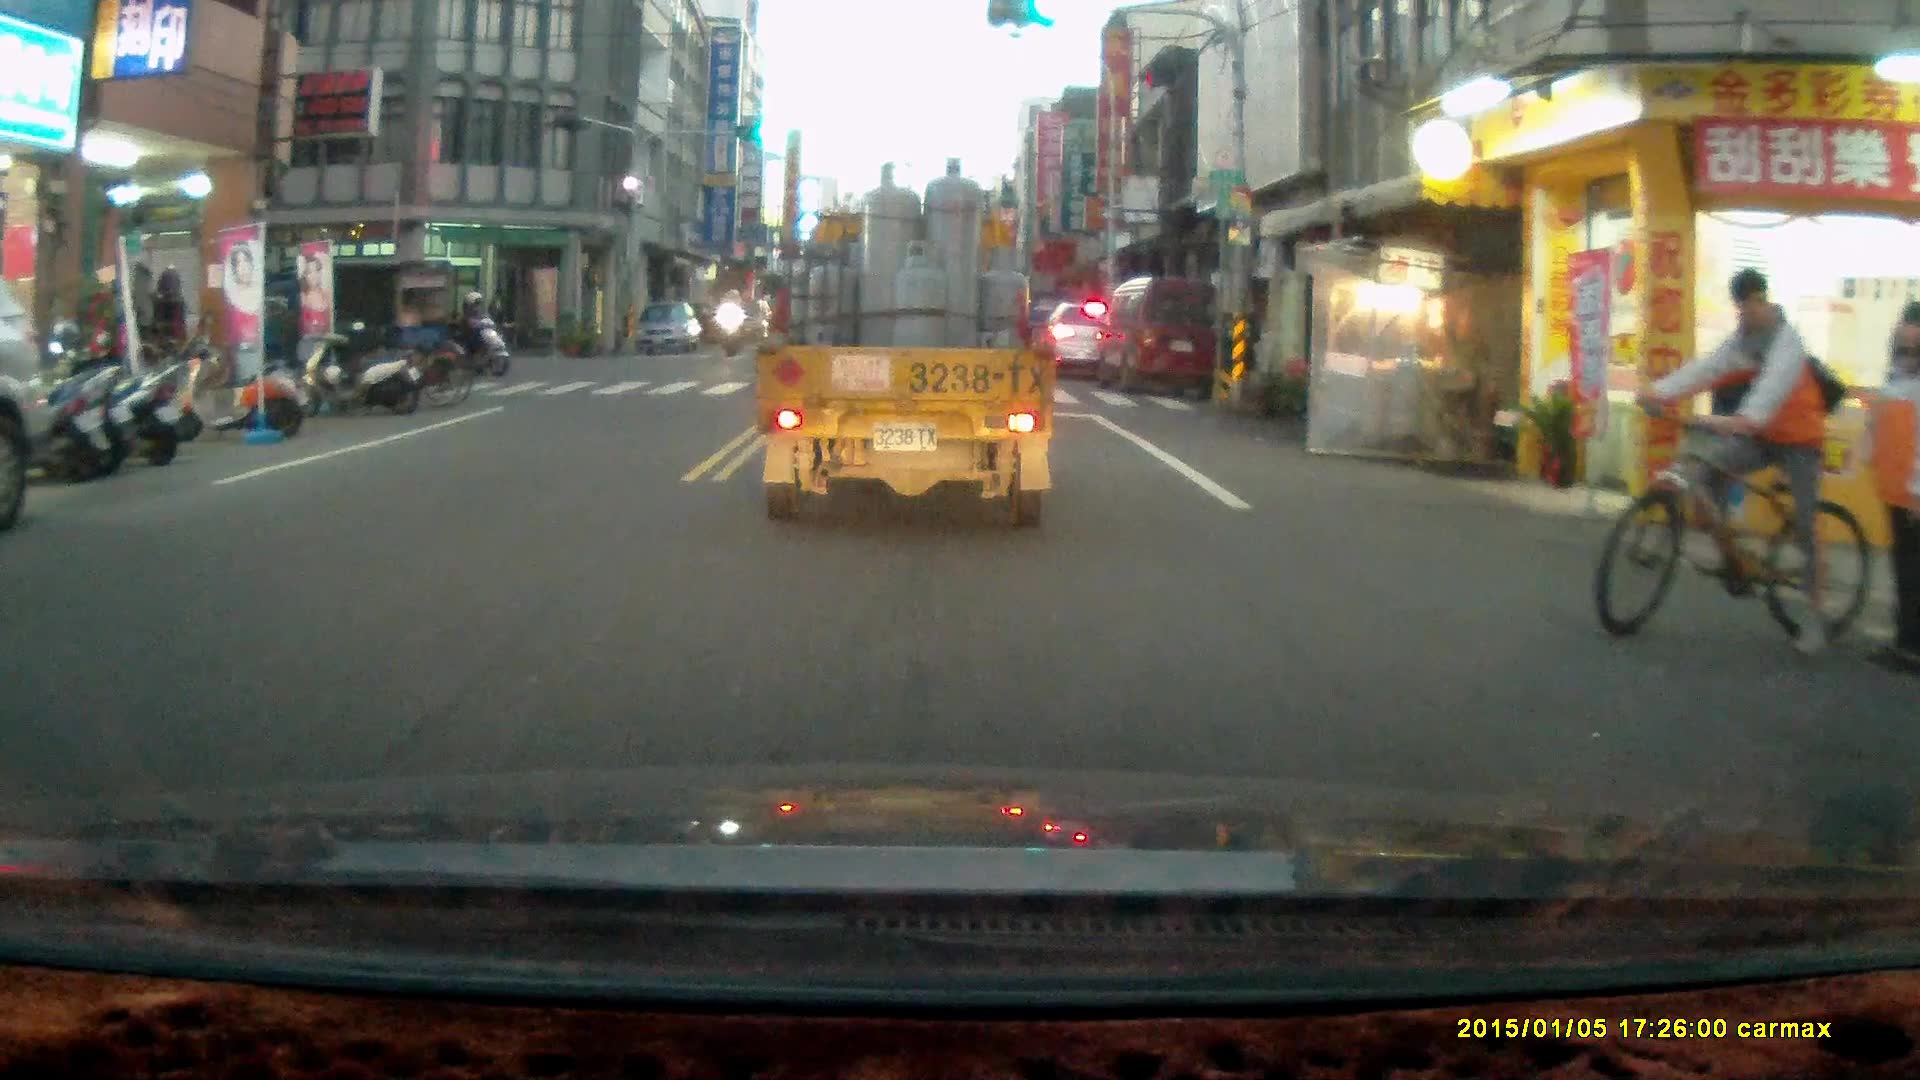pedestrian: (1863, 297, 1920, 677), (150, 265, 186, 377)
rider: (1596, 267, 1872, 661), (441, 283, 510, 374), (716, 280, 755, 353)
vehicle: (753, 160, 1049, 525), (236, 247, 464, 377), (1094, 276, 1223, 397), (1044, 300, 1120, 379), (635, 301, 703, 353)
